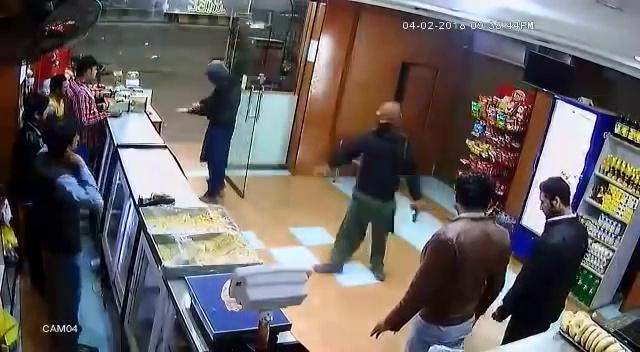weapon: (406, 202, 419, 223), (175, 104, 197, 115)
